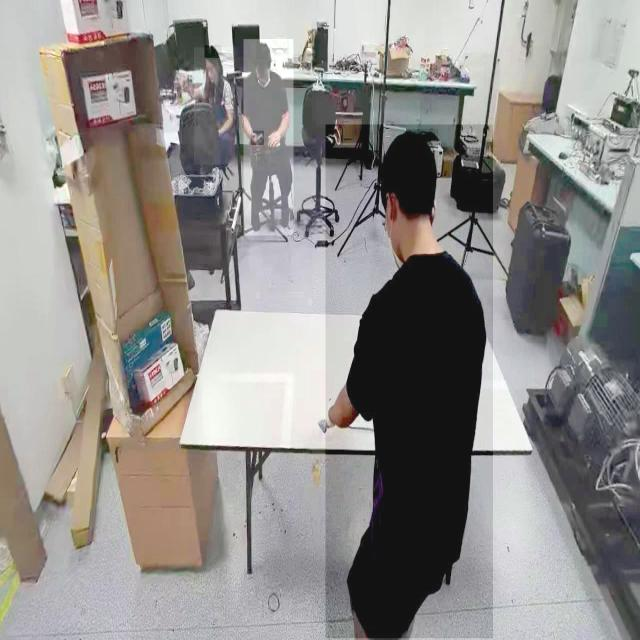face_nomask: (206, 59, 218, 82)
hand_noglove: (268, 129, 280, 148), (250, 130, 264, 146)
head_nohelmet: (378, 129, 438, 169), (256, 42, 272, 60), (204, 45, 222, 59)
person: (325, 125, 493, 639), (243, 39, 293, 237), (193, 47, 235, 165)
shoes: (249, 197, 265, 231), (278, 196, 292, 230)
